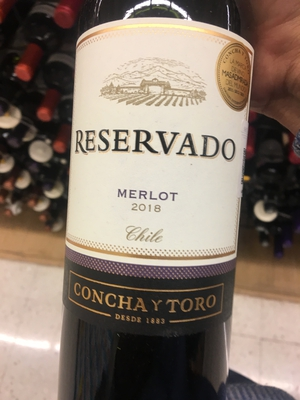reservado merlot: (52, 2, 268, 400)
